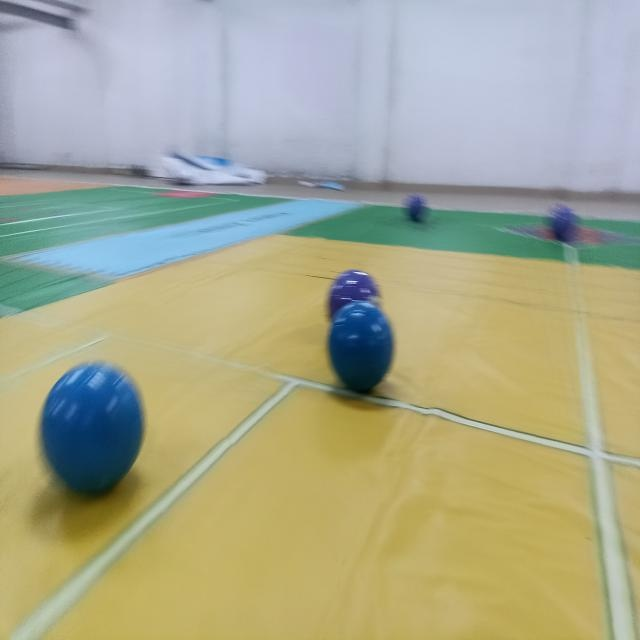blue_ball: (44, 364, 143, 498)
purple_ball: (329, 305, 394, 393), (330, 272, 380, 308), (551, 207, 569, 239), (411, 197, 421, 219)
